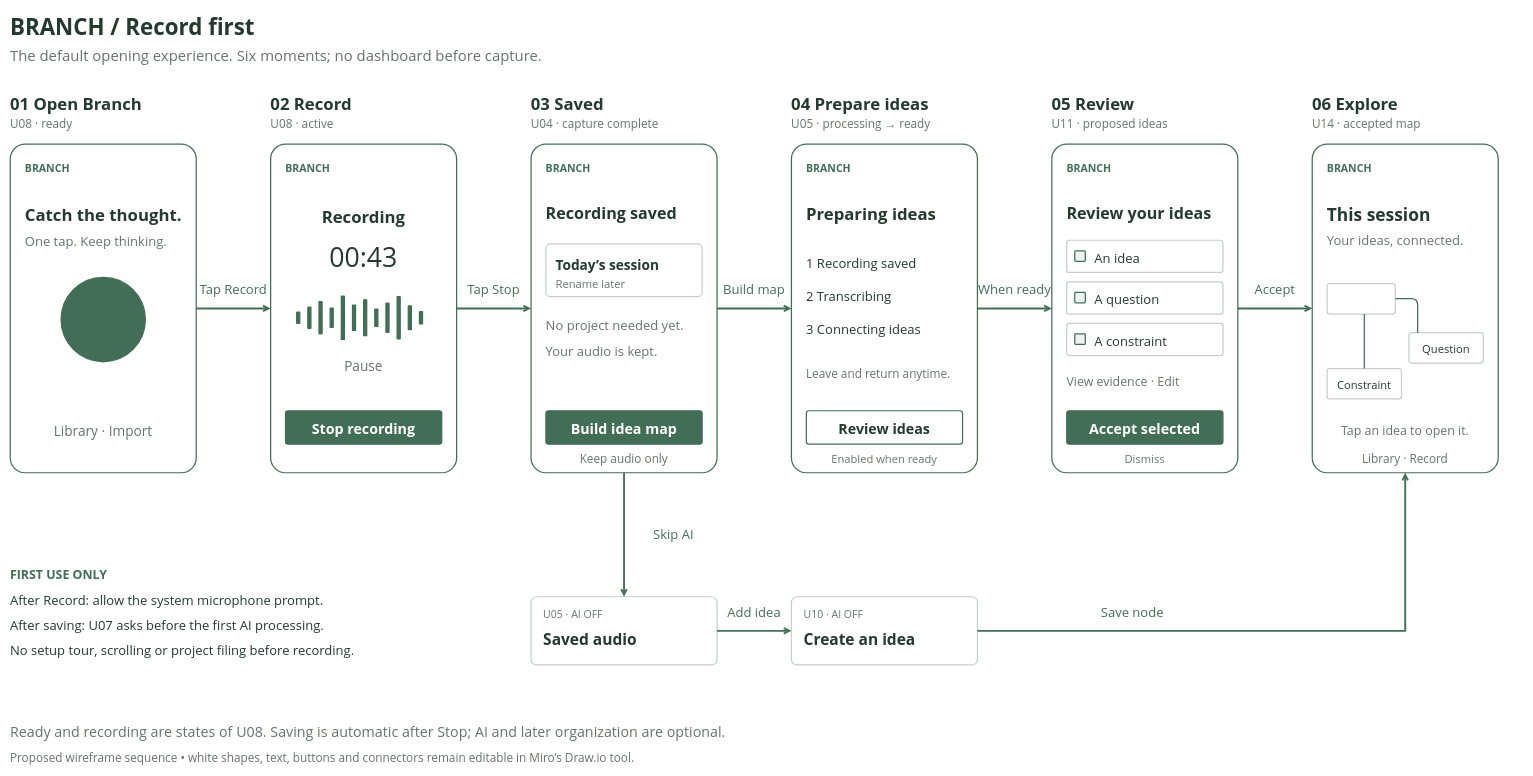
Image size: 1533x776. Some labels were removed from this diagram. Here are the shapes that lost their labels. From the top down, the centre of each, then its label:
At pixel 1361 298: "Idea".
At pixel 103 319: "Record".
